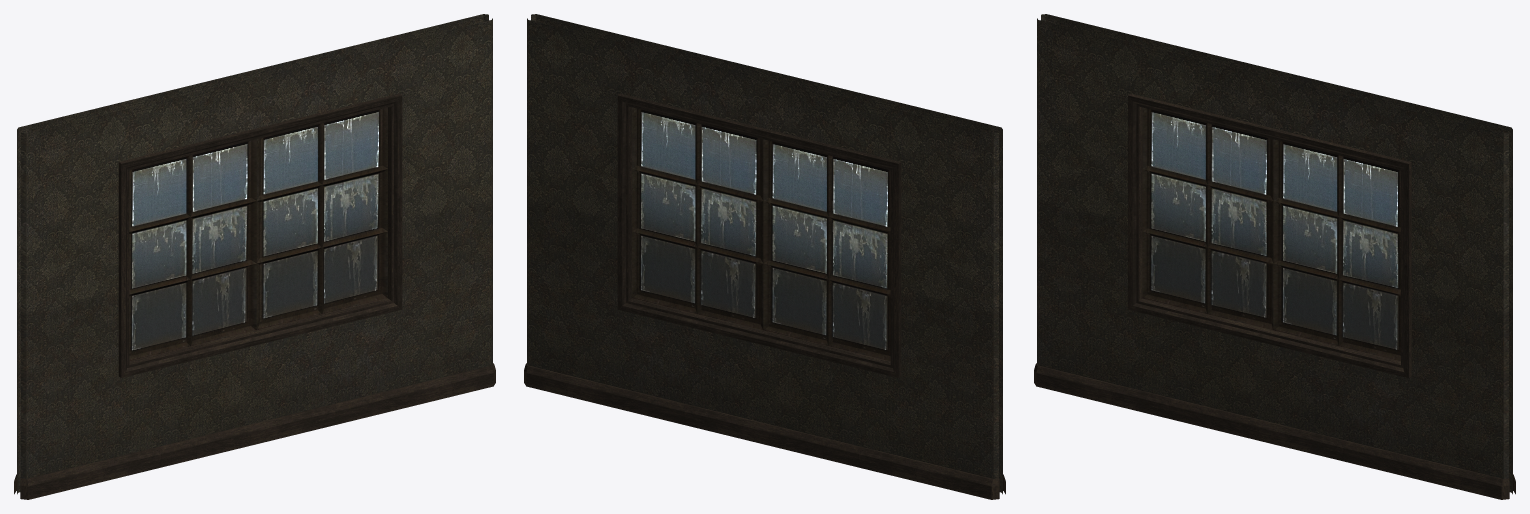
File: window_2_1_double.fbx
3 renders of one model, left to right at view 1: azimuth 30°, elevation 25°; view 2: azimuth 150°, elevation 25°; view 3: azimuth 330°, elevation 25°, orthographic.
Parts seen in each view (by area): view 1: window_2_1_double; view 2: window_2_1_double; view 3: window_2_1_double.
Boxes of the visible parts, x1=… form: window_2_1_double: x1=14, y1=14, x2=495, y2=499; window_2_1_double: x1=524, y1=14, x2=1005, y2=499; window_2_1_double: x1=1034, y1=14, x2=1515, y2=499.
Bounding box in the file's own units: 4.09 × 0.2 × 3.
